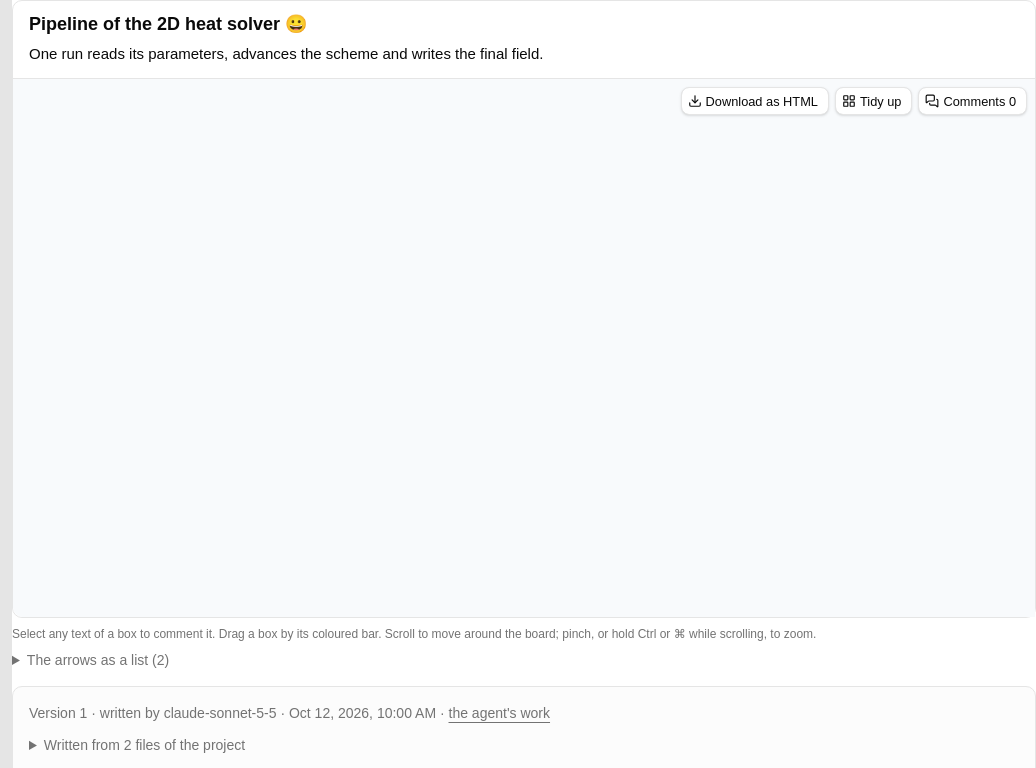
Test: PipelineView › opens the list of comments on request, with how to comment
What coordinates should you click on to do the following:
click the button "Comments 0"
I would click on:
 (973, 101)
Its box is [918,87,1027,115].
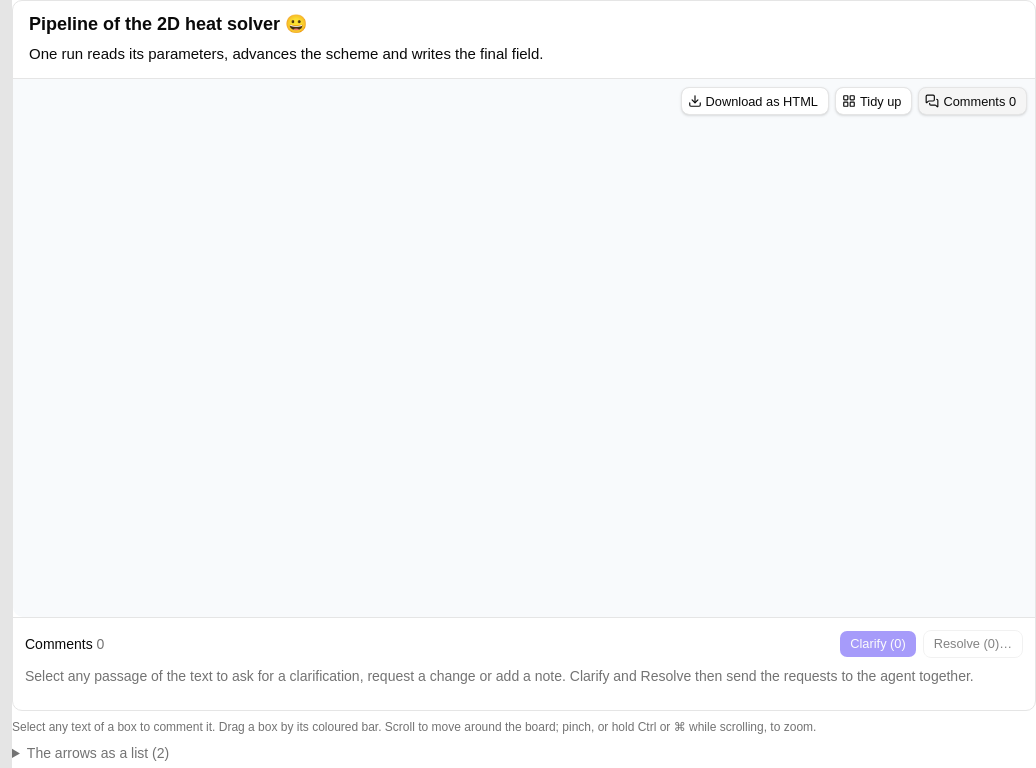
expect the text "Select any passage of the text" is shown: met, box [25,668,974,684]
